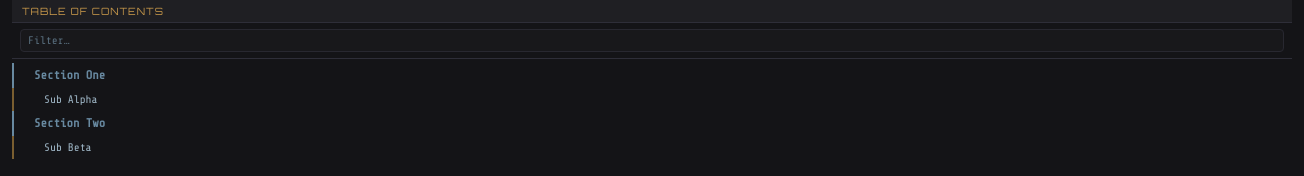
Scenario: TocPanel › filter is case-insensitive
Step 1. Type "SECTION" into the field with placeholder "Filter…" → [652, 40], box left=20, top=29, right=1284, bottom=52
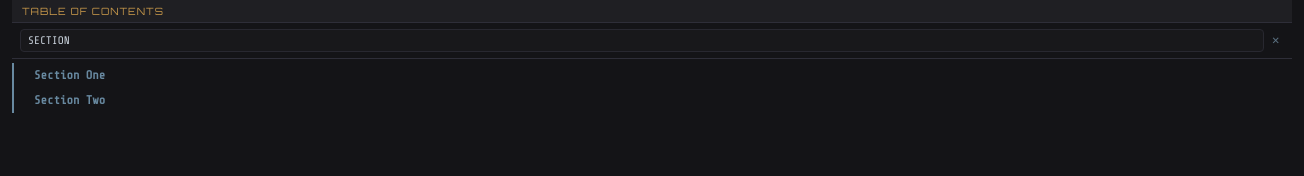
Expected: the button "Section One" is shown, left=12, top=63, right=1292, bottom=88
Expected: the button "Section Two" is shown, left=12, top=88, right=1292, bottom=113
Expected: the button "Sub Alpha" is gone
